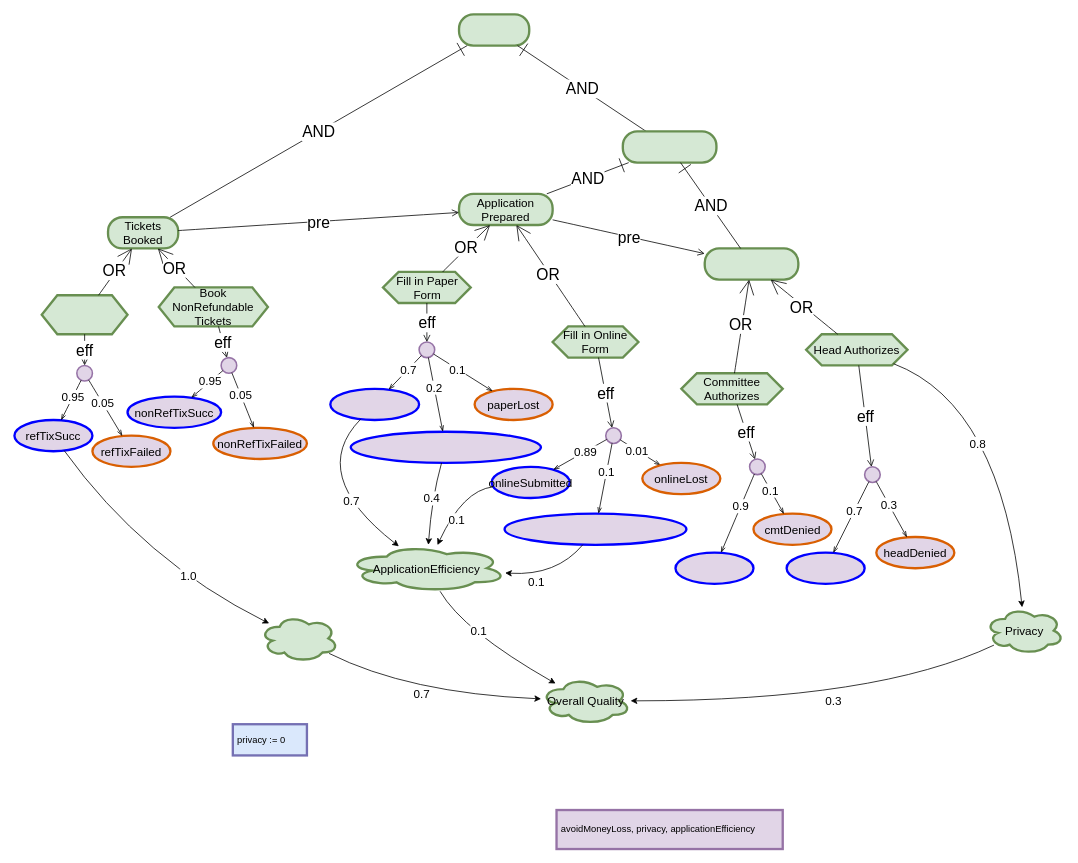
Image size: 1078x863. Some labels were removed from this diagram. The centre of each missing label's shape, as x and y in pixels:
"Authorization Obtained" belongs at [669,146].
"Authorization Signed" belongs at [751,263].
"Avoid Money Loss" belongs at [299,638].
"Book Refundable Tickets" belongs at [84,314].
"cmtGranted" belongs at [714,568].
"headGranted" belongs at [825,568].
"onlineSubmittedWithProblems" belongs at [595,529].
"paperSubmitted" belongs at [374,404].
"paperSubmittedWithProblems" belongs at [445,447].
"Travel Organized" belongs at [493,29].
